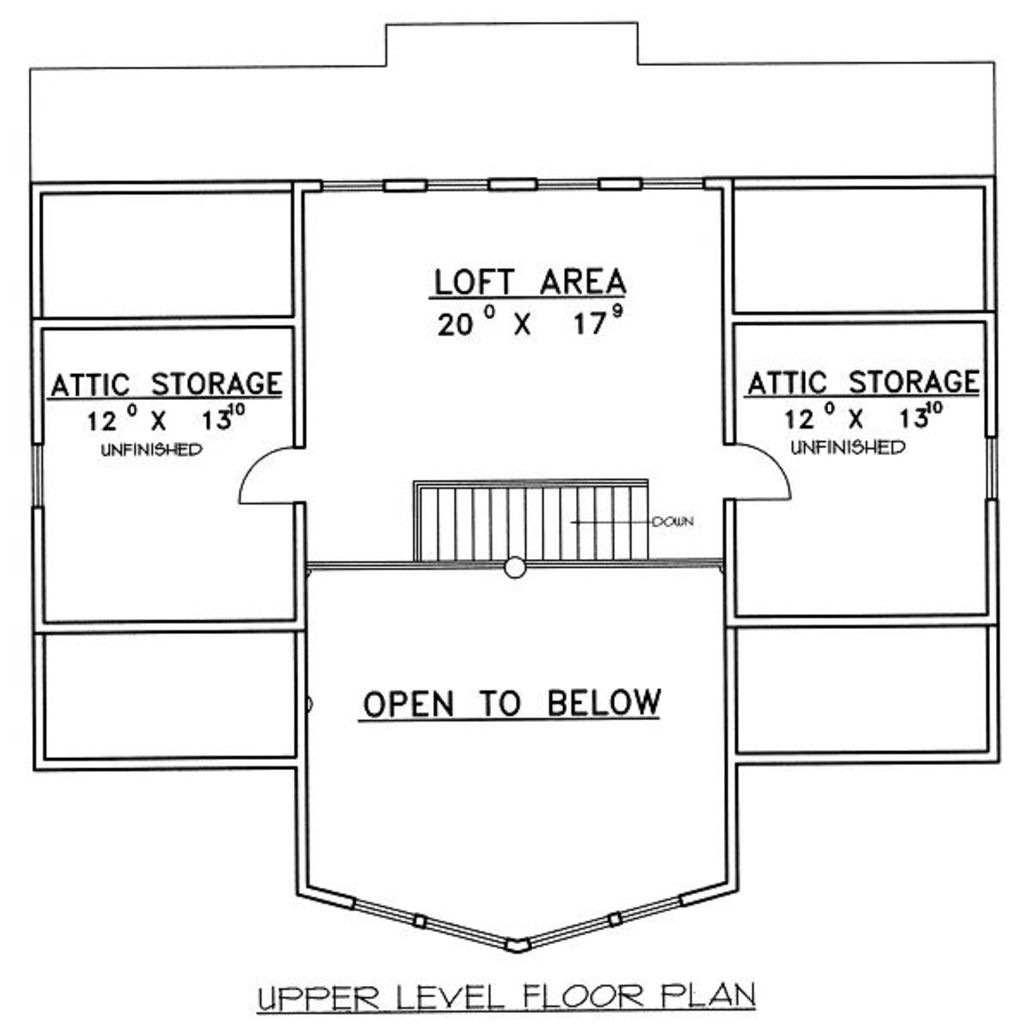door: (714, 432, 806, 515), (225, 435, 317, 507)
stairs: (409, 466, 664, 569)
window: (359, 897, 684, 963), (530, 169, 606, 194), (425, 169, 492, 194), (28, 441, 48, 508), (645, 177, 716, 193), (322, 176, 384, 194), (984, 437, 995, 496)
